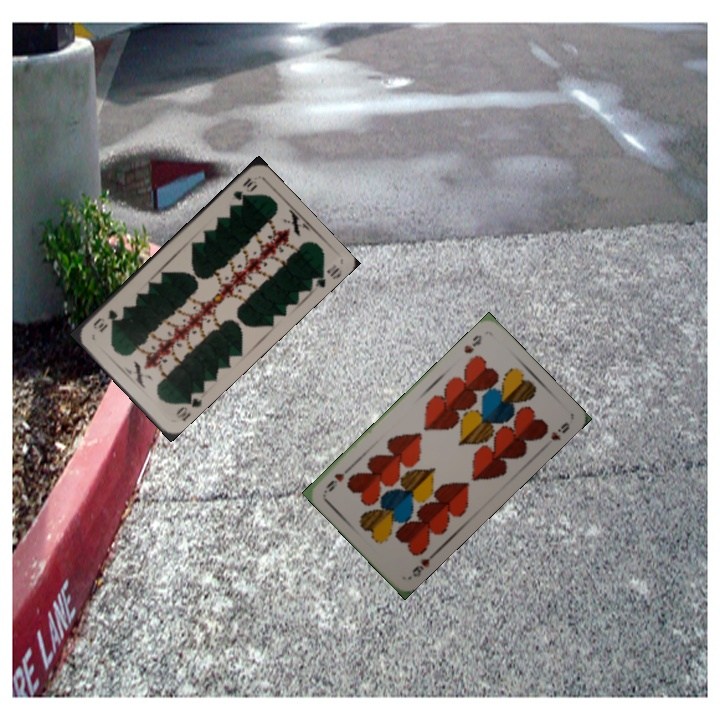G10: (172, 388, 204, 423), (229, 174, 260, 203)
H9: (405, 549, 438, 581), (460, 331, 484, 356)
